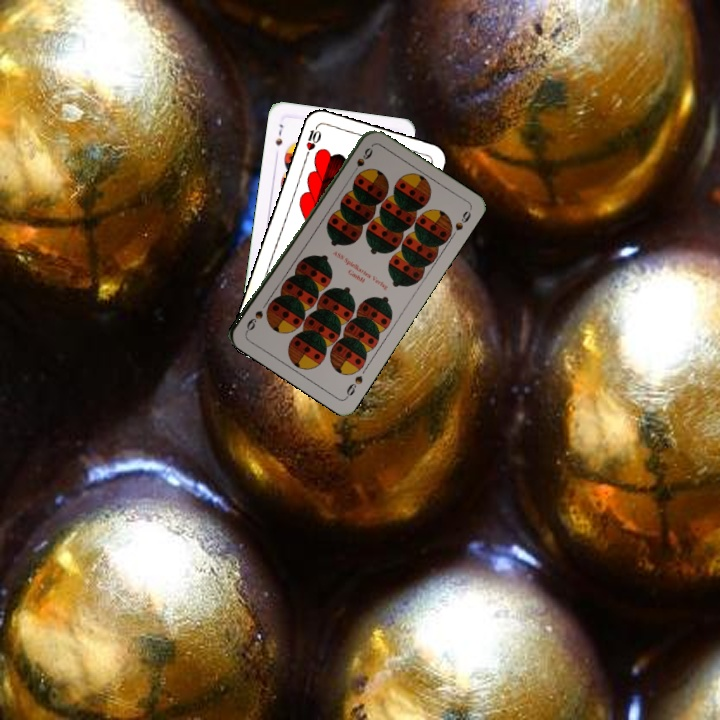H10: (301, 120, 324, 160)
S7: (271, 120, 286, 148)
S9: (347, 144, 375, 178), (342, 371, 365, 400)
